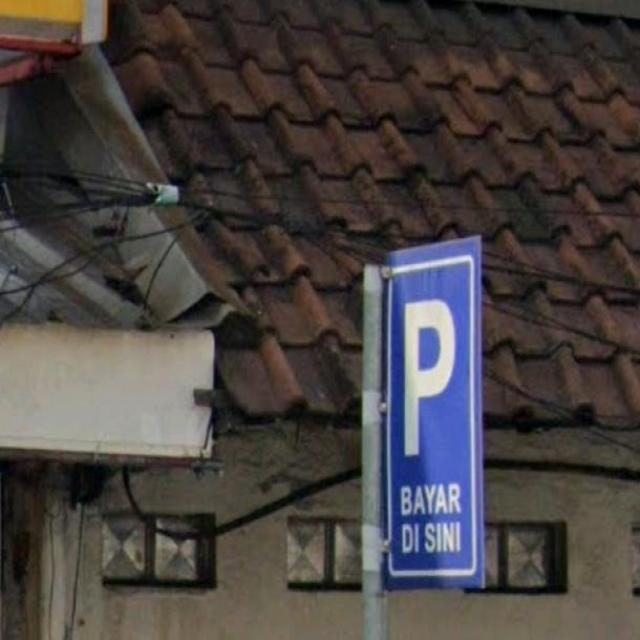traffic sign: (380, 236, 485, 586)
